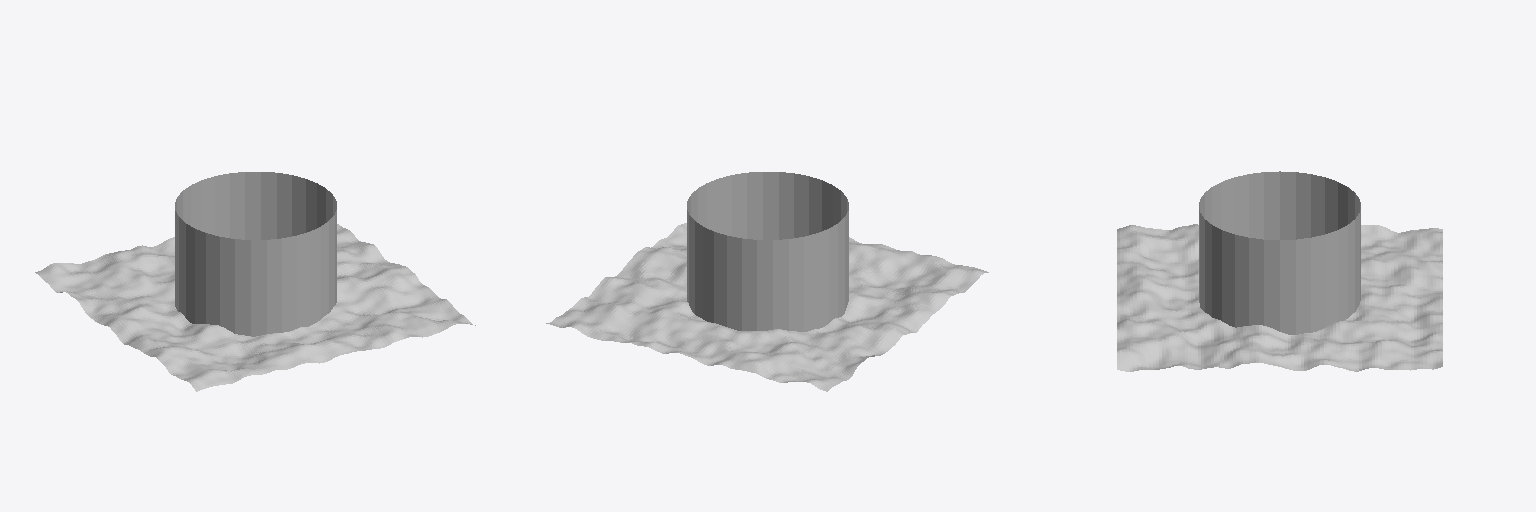
The model's file is terrain.obj.
3 views of the same model, side by side, from view 1: azimuth 30°, elevation 25°; view 2: azimuth 150°, elevation 25°; view 3: azimuth 270°, elevation 25° (orthographic).
Visible parts, largest first — view 1: Plane, Circle; view 2: Plane, Circle; view 3: Plane, Circle.
Boxes of the visible parts, x1=… form: Plane: x1=35, y1=224, x2=475, y2=391; Circle: x1=175, y1=172, x2=336, y2=336; Plane: x1=546, y1=223, x2=988, y2=391; Circle: x1=687, y1=172, x2=848, y2=331; Plane: x1=1117, y1=224, x2=1442, y2=371; Circle: x1=1199, y1=171, x2=1360, y2=334.
Bounding box in the file's own units: 150 × 50.99 × 150.